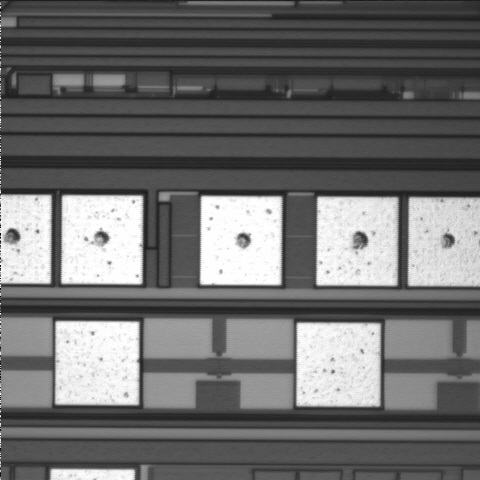pad: (61, 195, 143, 284), (200, 196, 282, 285), (317, 197, 398, 286), (55, 321, 139, 405), (297, 323, 380, 406)
